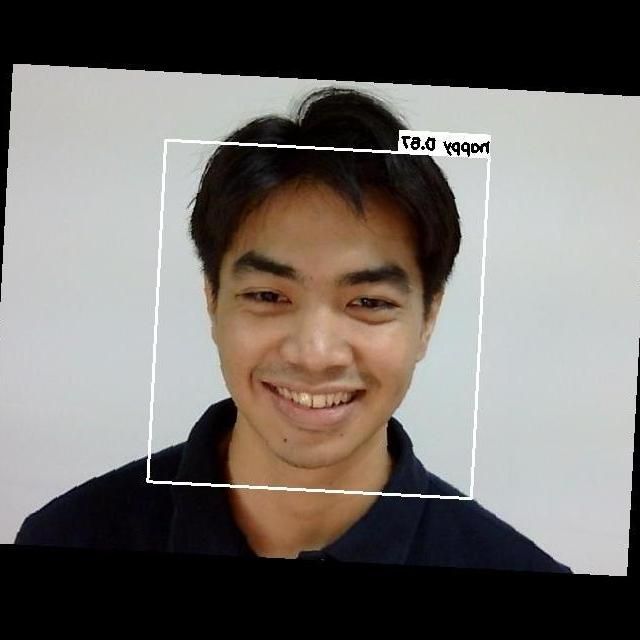Happy: (215, 218, 423, 434)
